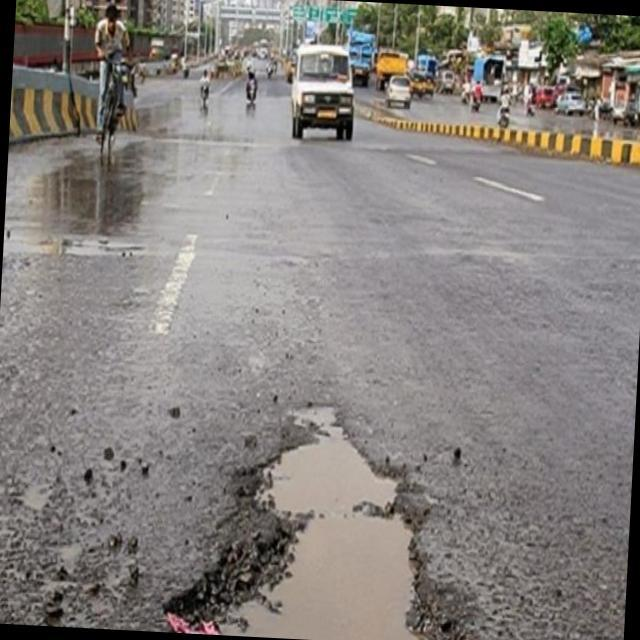Pothole: (218, 439, 420, 640)
